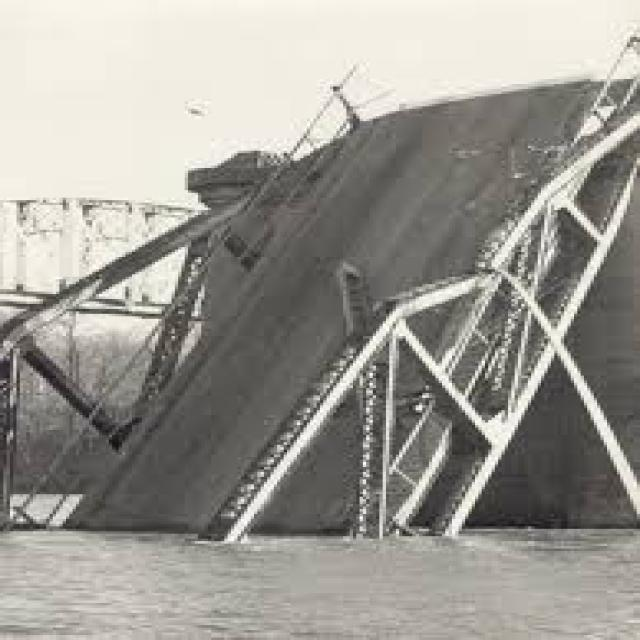bridge collapse: (6, 7, 640, 640)
